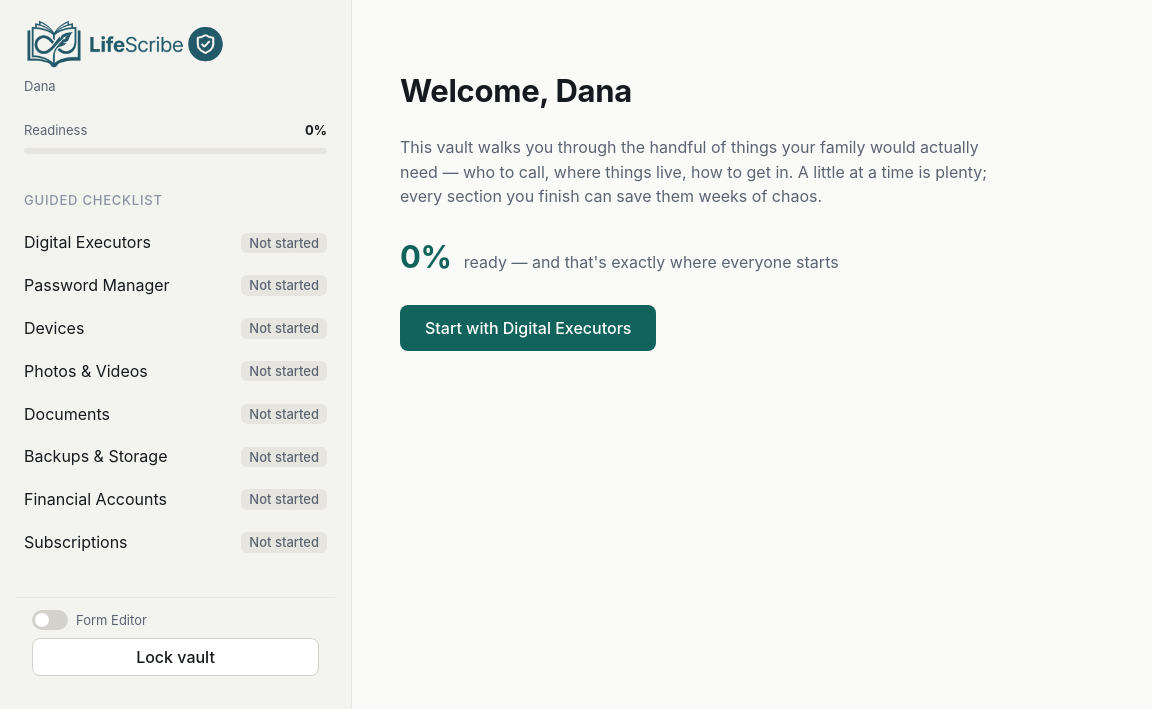
Test: Dashboard checklist and saving › reflects saved data only: transient edits never move the badge, a save does
Expected: the heading "Welcome, Dana" is shown, [400,72,632,109]
Expected: the 1st text "Not started" is shown, [241,233,327,253]
Click the button "Digital Executors Not started".
click(87, 242)  # box [16,222,335,263]
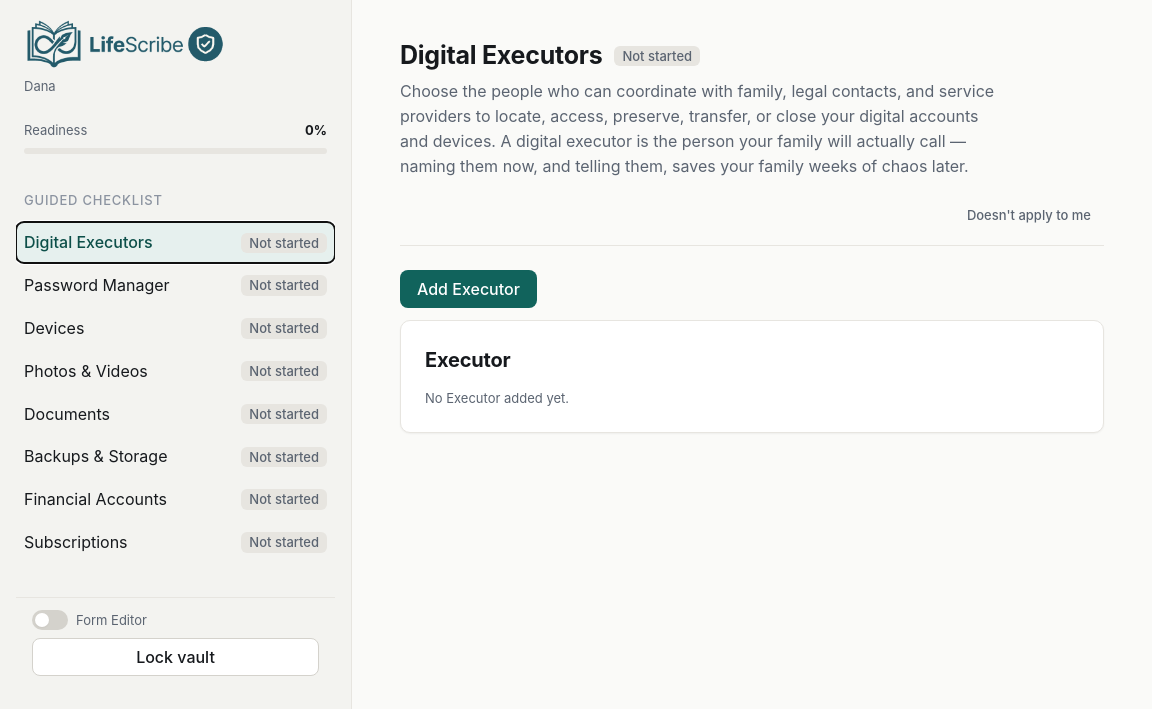
Click the button "Add Executor".
click(468, 289)  # box [400,270,537,308]
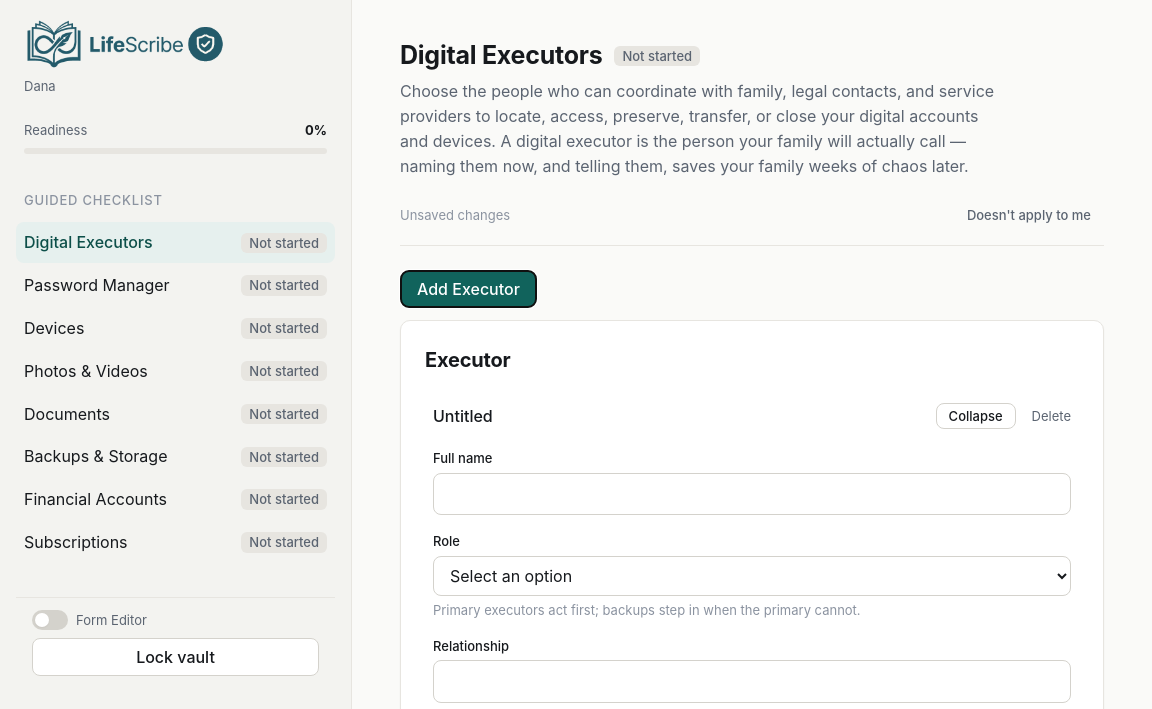
Type "Dana Estate" into the field labelled "Full name".
click(752, 494); type("Dana Estate")  # box [433,473,1071,515]
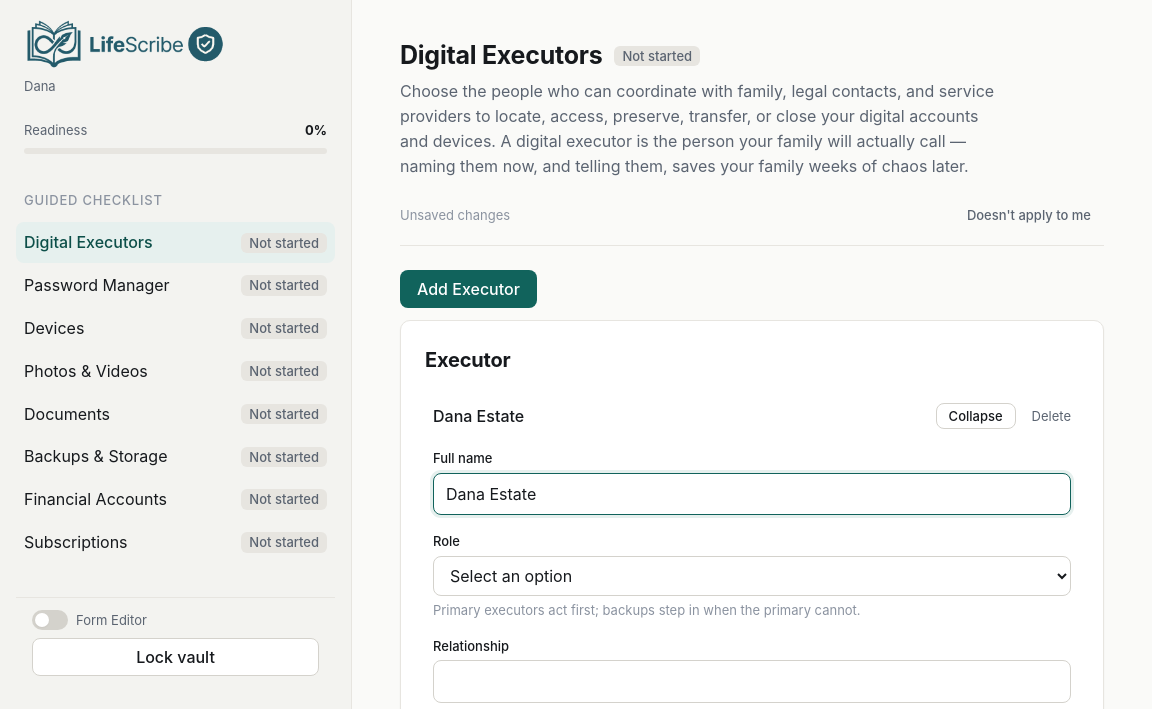
Select "Primary" in the dropdown labelled "Role" at (752, 576), box [433,556,1071,596]
(page scrolled)
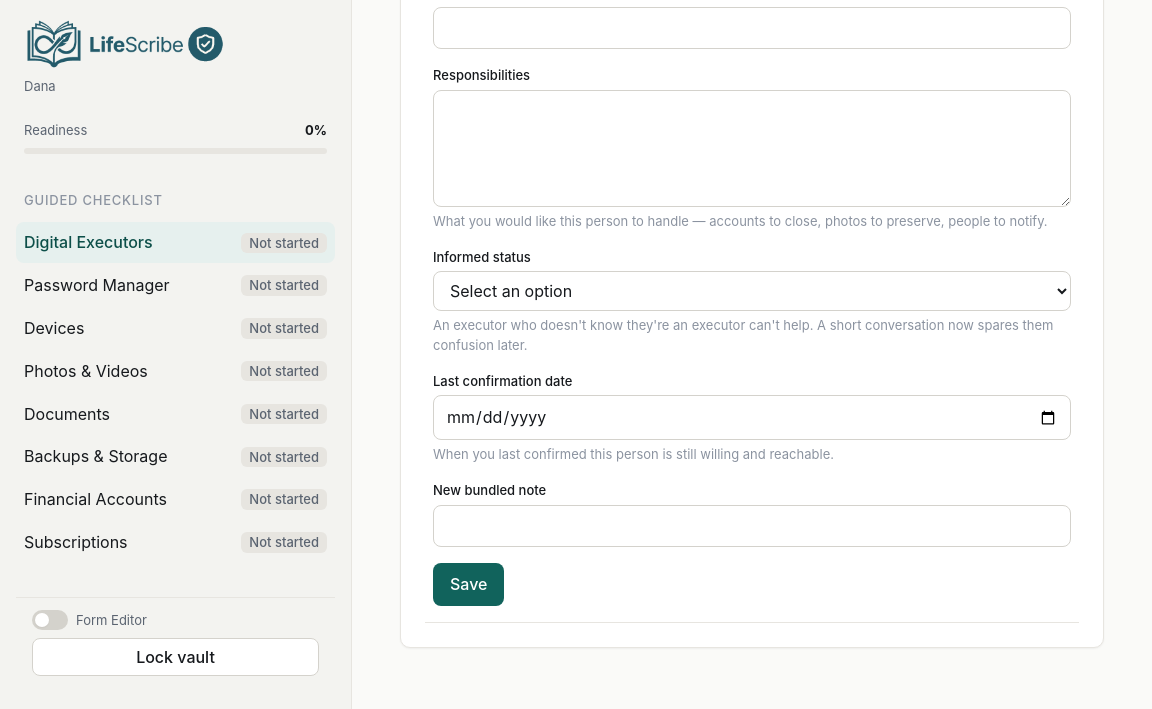
Expected: the 1st text "Not started" is shown, [241,233,327,253]
Expected: the text "0%" is shown, [305,120,327,140]
Click the button "Save".
click(469, 585)  # box [433,563,504,606]
(page scrolled)
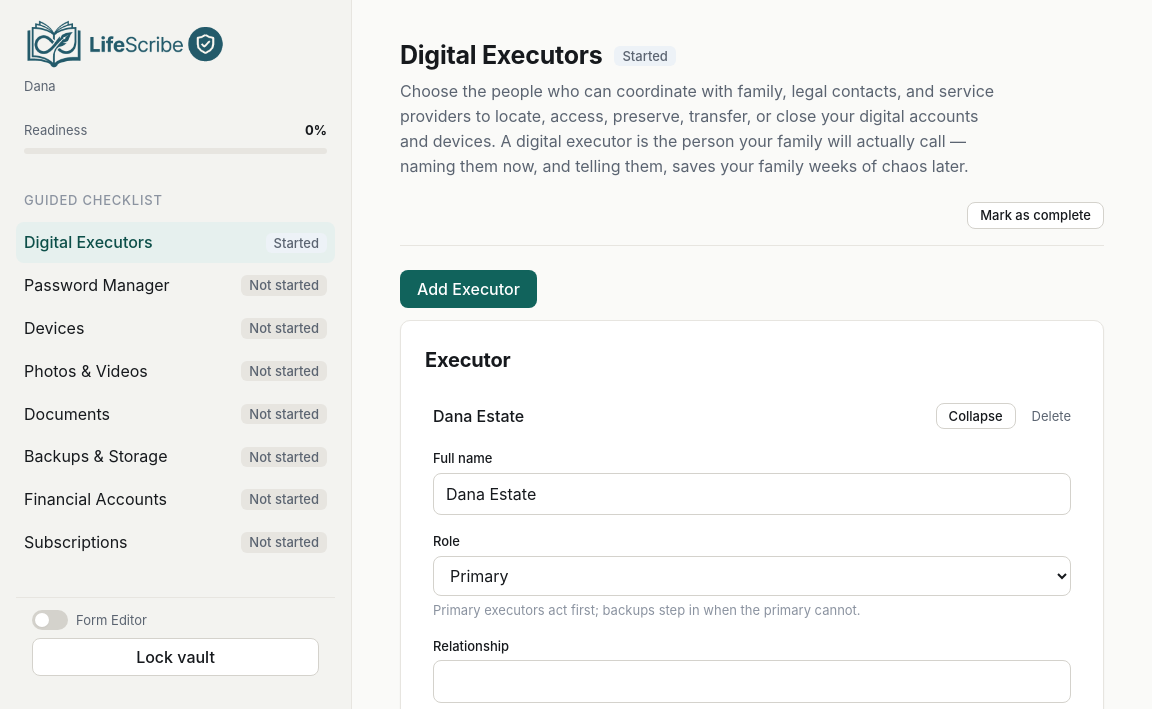
Expected: the text "Started" below "Guided checklist" is shown, [274,235,319,251]
Now the button "Dana Estate" is shown, box [425,396,928,436]
Click the button "Mark as complete".
click(1036, 216)  # box [967,202,1104,229]
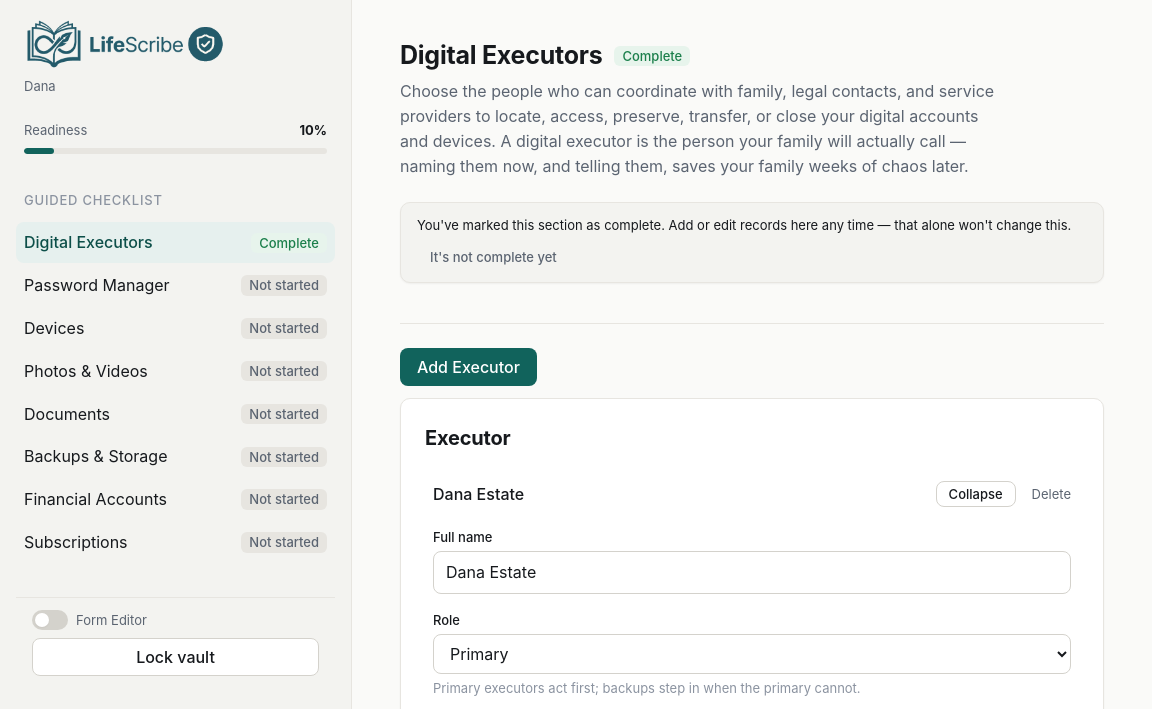
Now the text "Complete" below "Guided checklist" is shown, box [259,235,319,251]
Now the text "10%" is shown, box [299,120,327,140]
